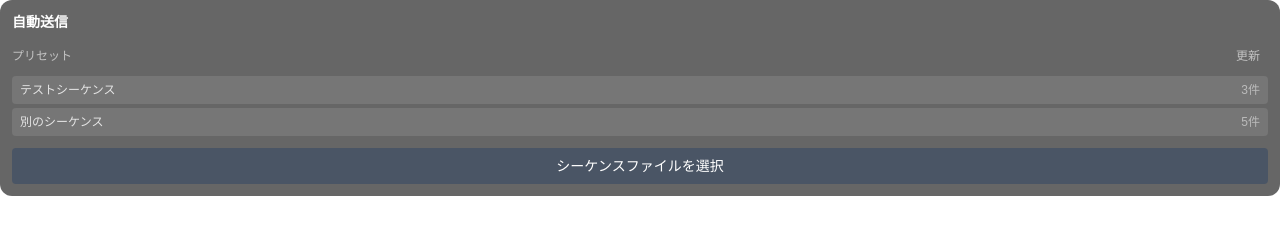
Test: ScriptAutoSenderPanel - プリセット機能 › タスク3.3: プリセット選択時の読み込み処理 (Requirements 2.1, 2.2, 2.3, 2.4) › 読み込み失敗時はエラーメッセージを表示する
The width and height of the screenshot is (1280, 237).
Click the text "テストシーケンス".
click(68, 90)  # box [20,82,115,98]
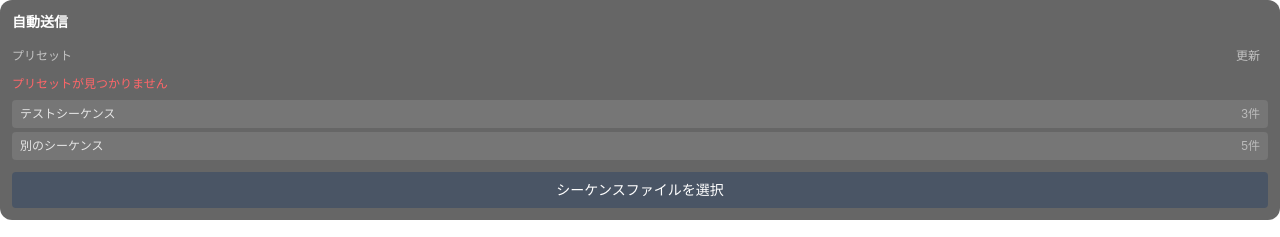
Result: the text "プリセットが見つかりません" is shown at [12,77,168,91]
